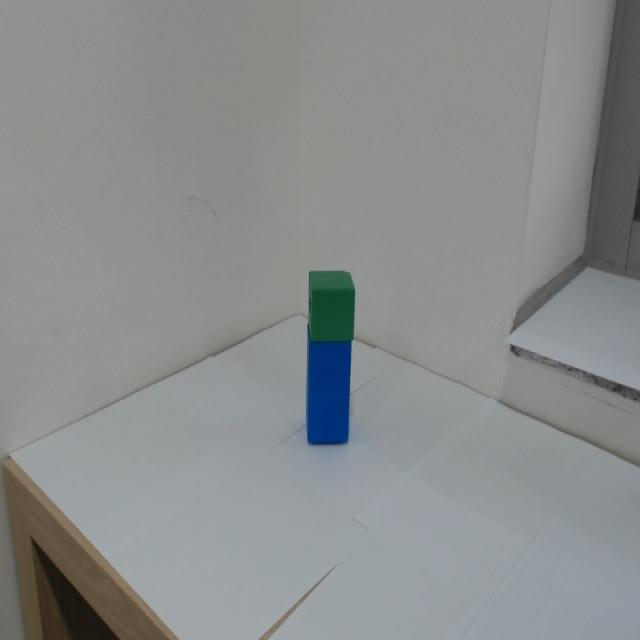cube: (299, 267, 366, 345)
